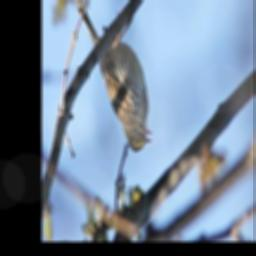Sparrow: (76, 3, 153, 155)
